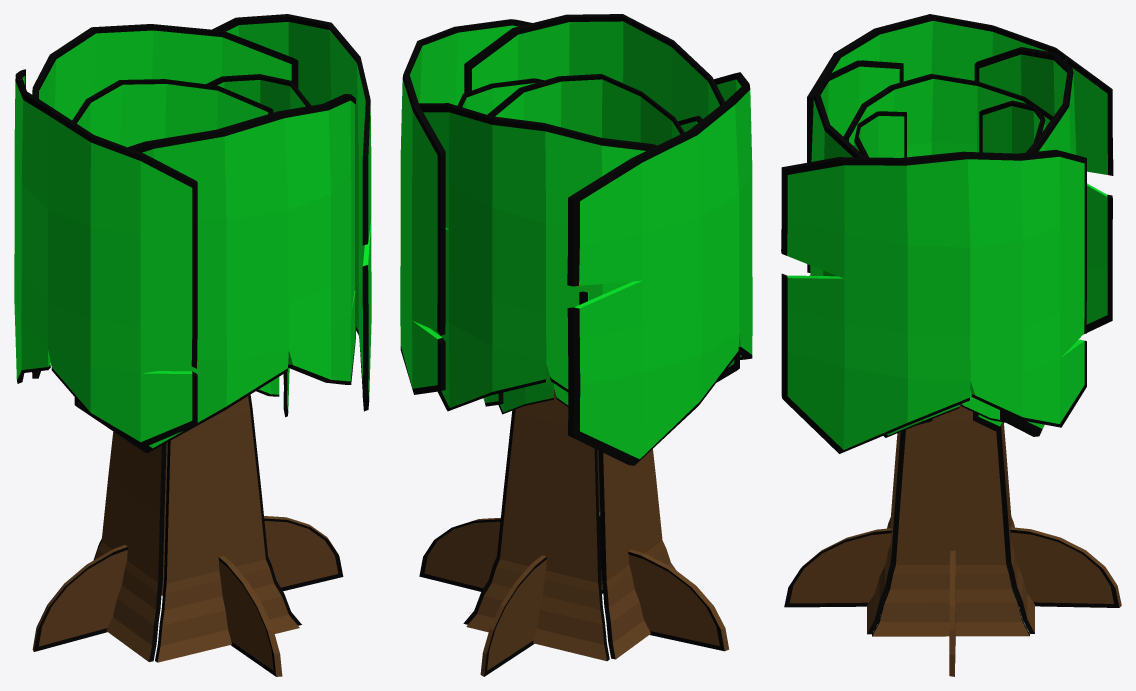
File: Tree01.fbx
The picture shows the model from 3 angles, left to right: view 1: azimuth 30°, elevation 25°; view 2: azimuth 150°, elevation 25°; view 3: azimuth 270°, elevation 25°; orthographic projection. The views are drawn at different scales.
Visible parts, largest first — view 1: Cube.007; view 2: Cube.007; view 3: Cube.007.
Boxes of the visible parts, x1,y1,x2,y2 form: Cube.007: (14,14,371,676); Cube.007: (400,14,752,676); Cube.007: (781,14,1121,676).
Size of the model in its own units: 200 by 336 by 199.
